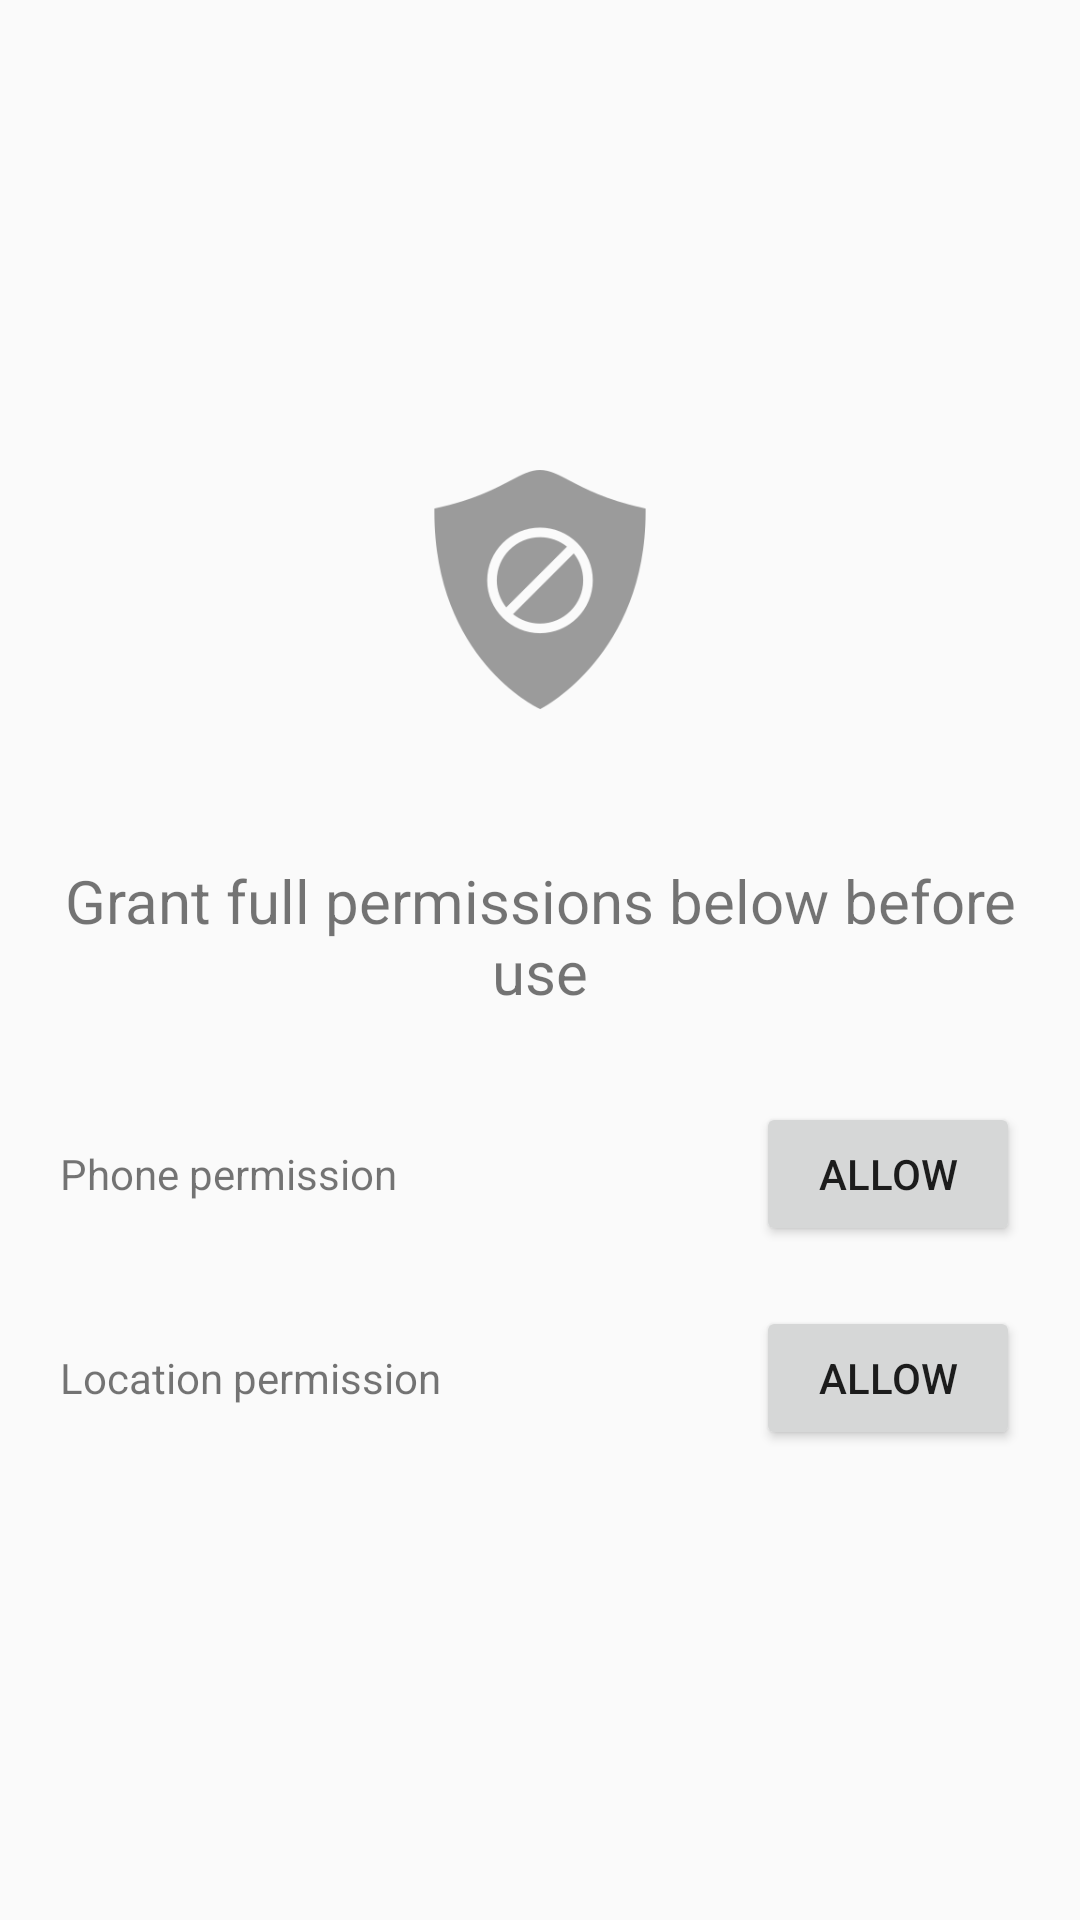

Icons on this 1080 × 1920 Android screen, each with the point to tap as [x,y]:
denied: [540,589]
